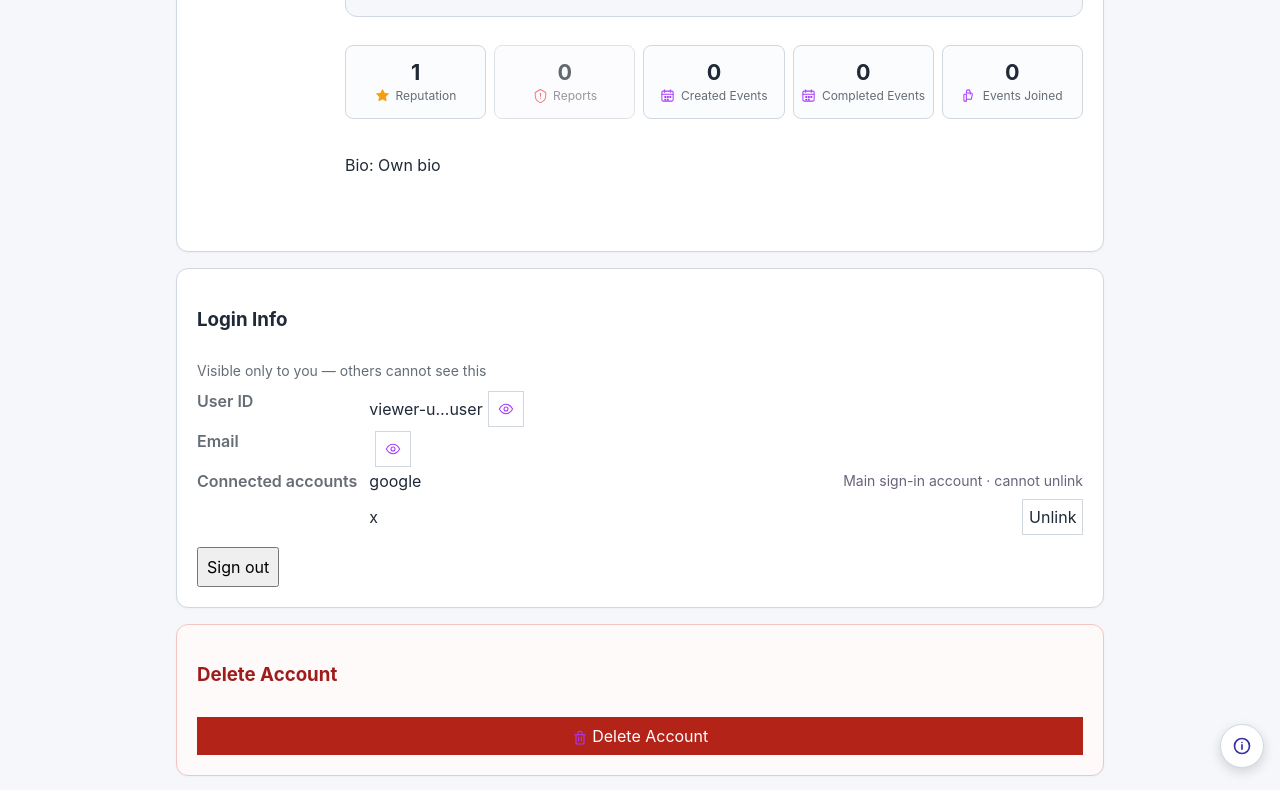
ProfilePage › keeps the original identity and allows unlinking a secondary identity
(page scrolled)
Expected: the text "Main sign-in account · cannot unlink" is shown, [843,472,1083,489]
Click the button with aria-label "Unlink x account" at [1053, 517], box [1022,499,1083,535]
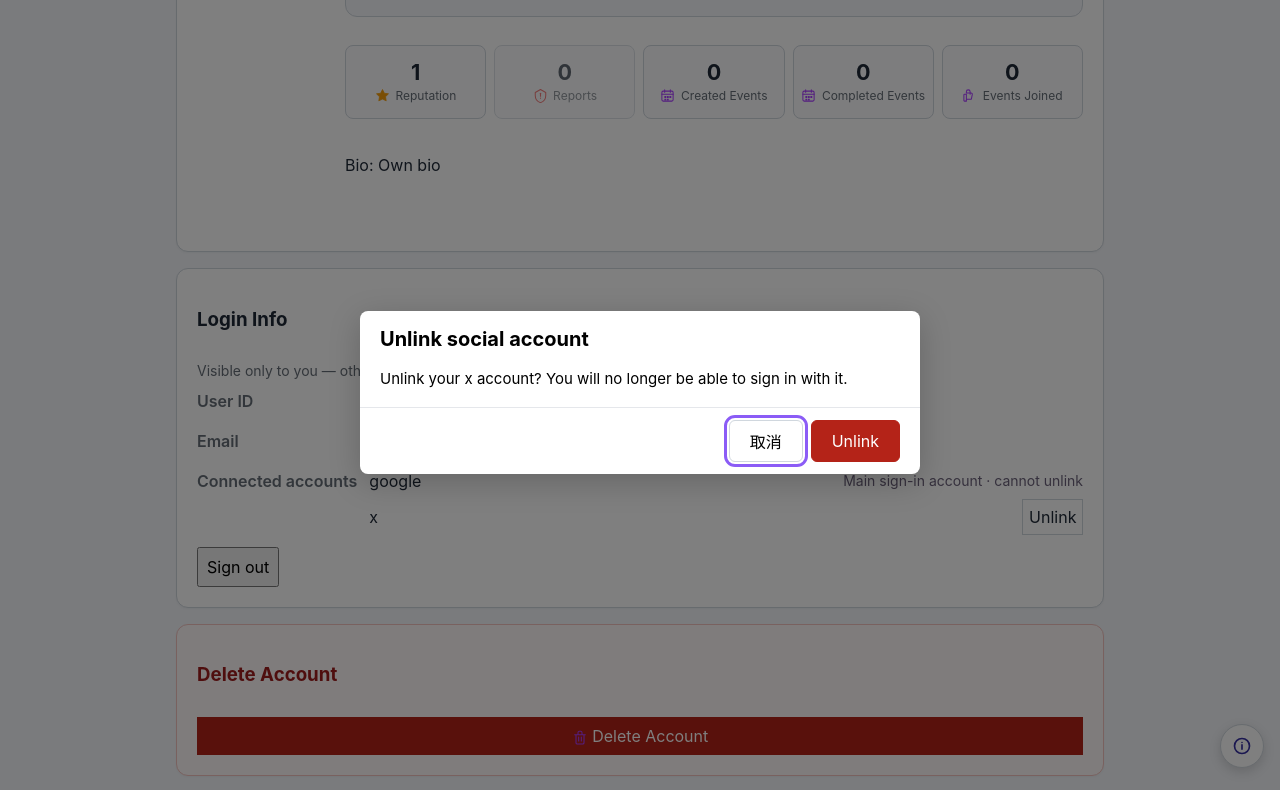
Click the button "Unlink" at [855, 440], box [811,420,900,462]
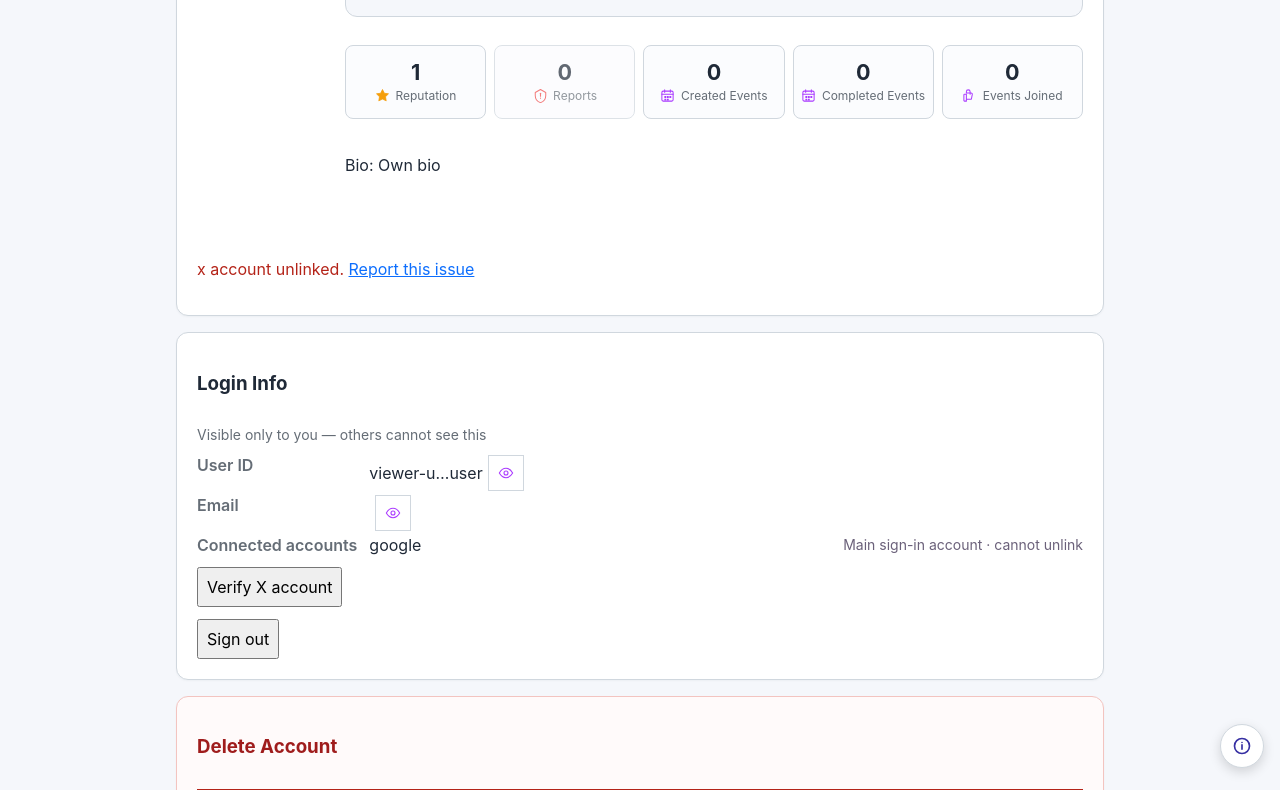
Now the button "Verify X account" is shown, box [197,567,342,607]
